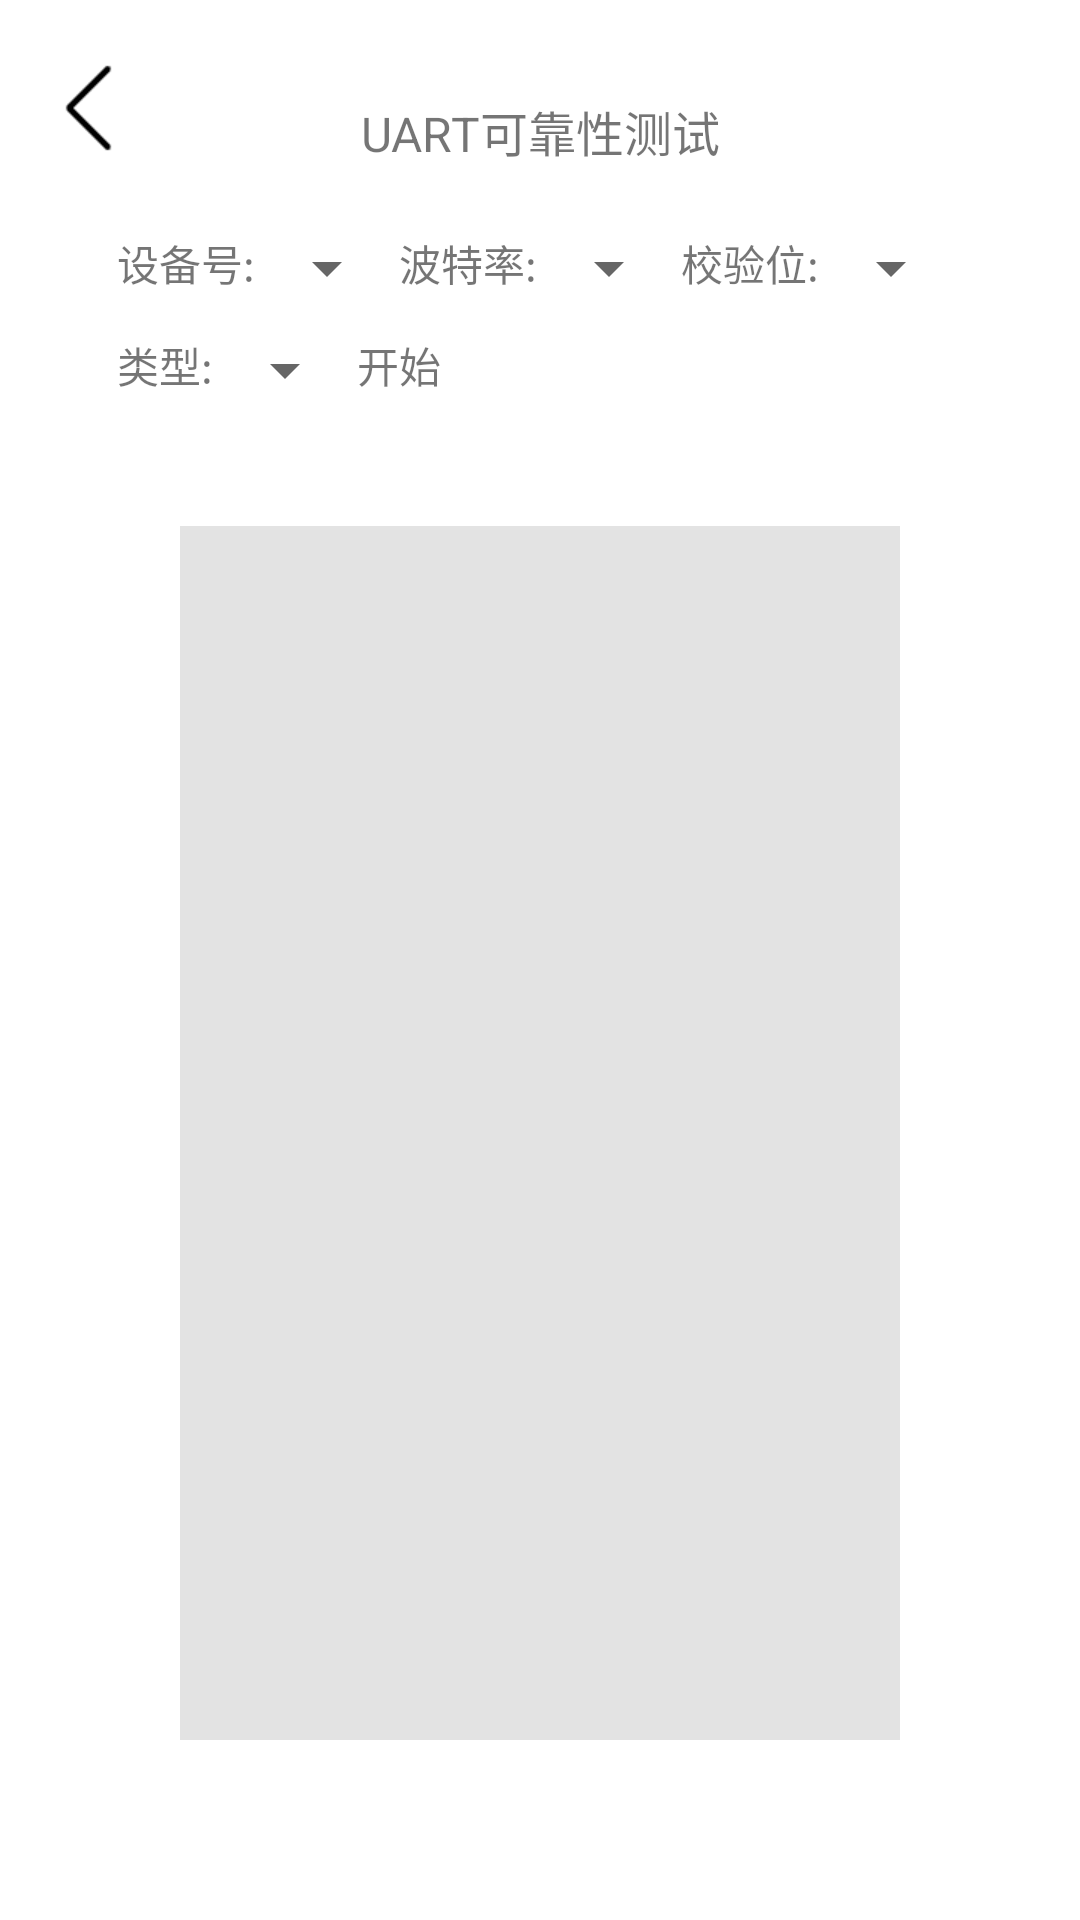

Icons on this 1080x1920 Android screen, each with its box as [left=x1, top=y1, right=x2, bottom=y2]:
back: [left=65, top=65, right=112, bottom=151]
